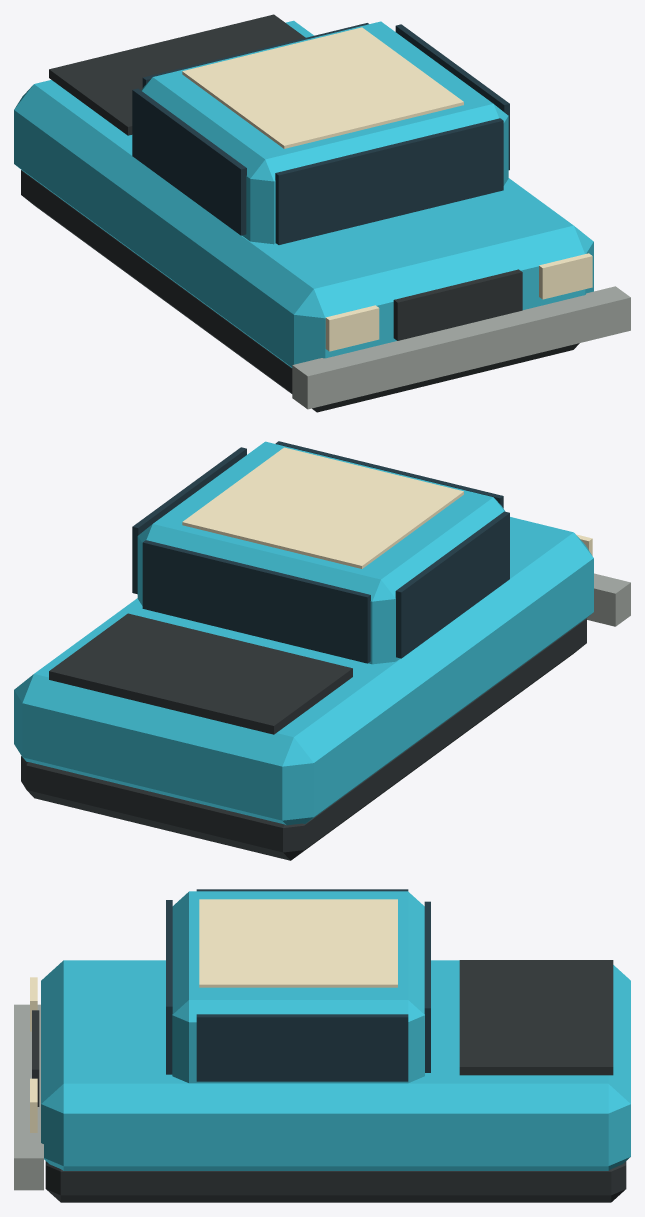
The model's file is truck-2.glb.
The picture shows the model from 3 angles, top to bottom: view 1: azimuth 30°, elevation 25°; view 2: azimuth 150°, elevation 25°; view 3: azimuth 270°, elevation 25°; orthographic projection. The views are drawn at different scales.
Parts seen in each view (by area): view 1: Optimized truck-2; view 2: Optimized truck-2; view 3: Optimized truck-2.
Boxes of the visible parts, x1,y1,x2,y2 form: Optimized truck-2: (14, 14, 630, 412); Optimized truck-2: (14, 441, 630, 860); Optimized truck-2: (14, 889, 630, 1202).
Bounding box in the file's own units: 1.94 × 1.18 × 3.3.
